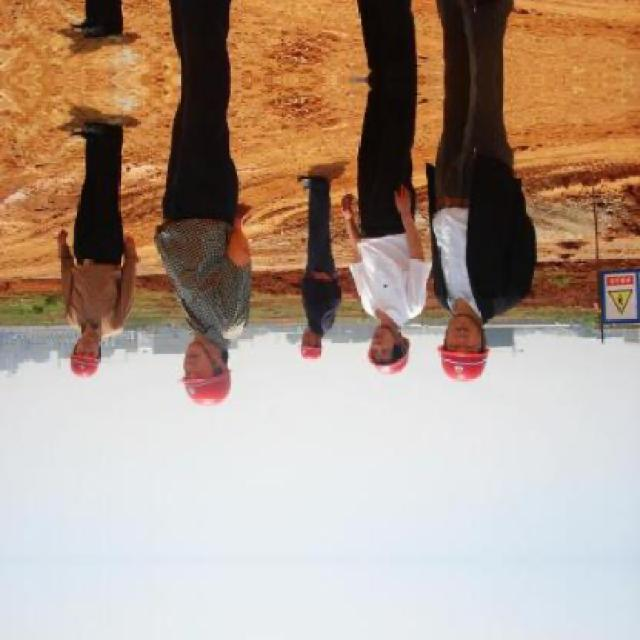con casco: (406, 318, 516, 390), (162, 333, 236, 414), (264, 319, 347, 372), (349, 314, 416, 378), (66, 332, 113, 386)
